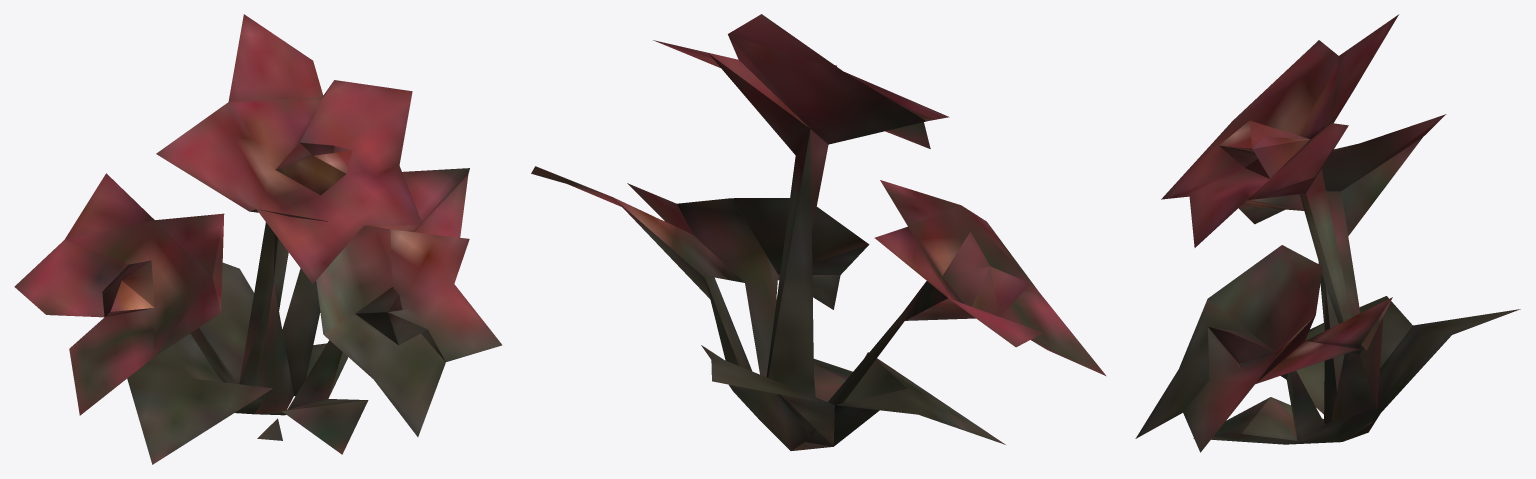
Rendered from env_flowers_red-DcG_qoM1.glb.
3 views of the same model, side by side, from view 1: azimuth 30°, elevation 25°; view 2: azimuth 150°, elevation 25°; view 3: azimuth 270°, elevation 25° (orthographic). The views are drawn at different scales.
Visible parts, largest first — view 1: env_flowers_red_hy_v1; view 2: env_flowers_red_hy_v1; view 3: env_flowers_red_hy_v1.
Part boxes in pixels (<box>): env_flowers_red_hy_v1: <box>14,14,502,464</box>; env_flowers_red_hy_v1: <box>531,14,1106,450</box>; env_flowers_red_hy_v1: <box>1135,14,1520,452</box>.
Bounding box in the file's own units: 0.4344 × 0.3791 × 0.2953.
1 material, 1 textured.
